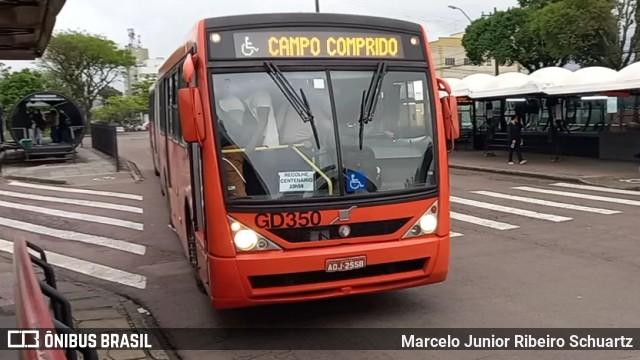CAMPO COMPRIDO: (259, 32, 403, 59)
